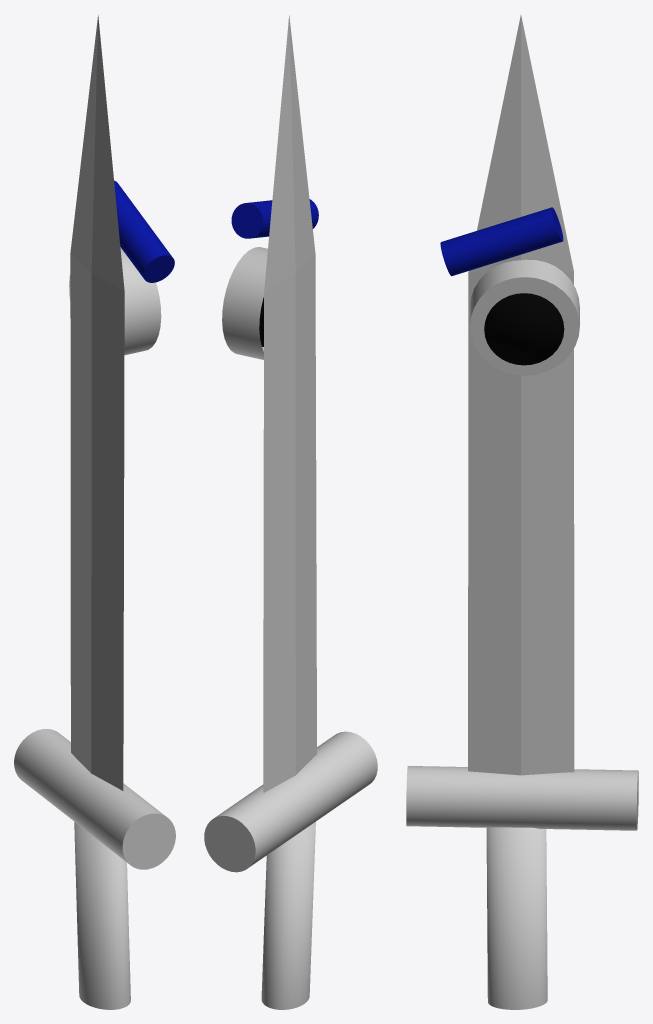
Rendered from swordman.obj.
3 renders of one model, left to right at view 1: azimuth 30°, elevation 25°; view 2: azimuth 150°, elevation 25°; view 3: azimuth 270°, elevation 25°, orthographic.
Parts seen in each view (by area): view 1: Cone; view 2: Cone; view 3: Cone.
Part boxes in pixels (left/top/right/bottom): Cone: left=14, top=15, right=175, bottom=1009; Cone: left=204, top=15, right=377, bottom=1009; Cone: left=406, top=15, right=638, bottom=1009.
Bounding box in the file's own units: 0.8102 × 10.7 × 2.29.
